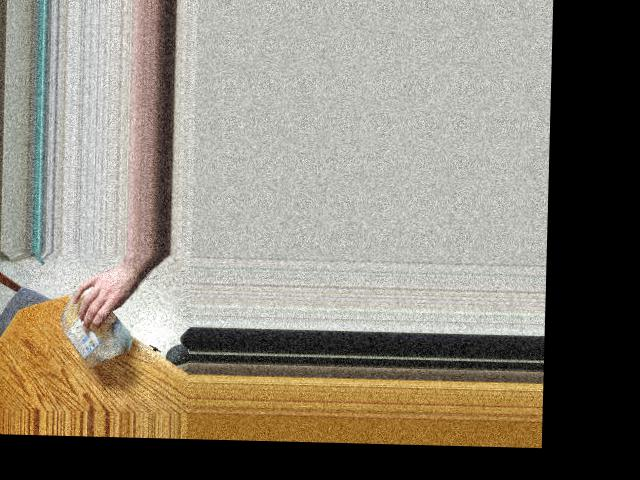cheese: (57, 279, 132, 371)
